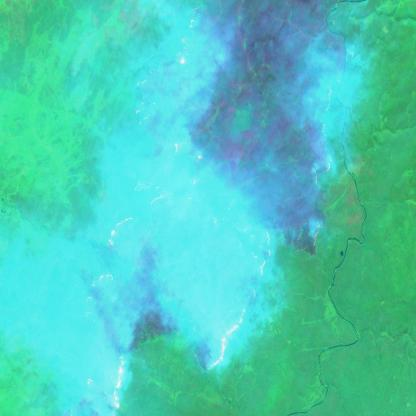fire: (207, 211, 283, 376), (92, 170, 170, 302), (145, 16, 205, 164), (298, 12, 342, 197), (83, 352, 143, 416)
